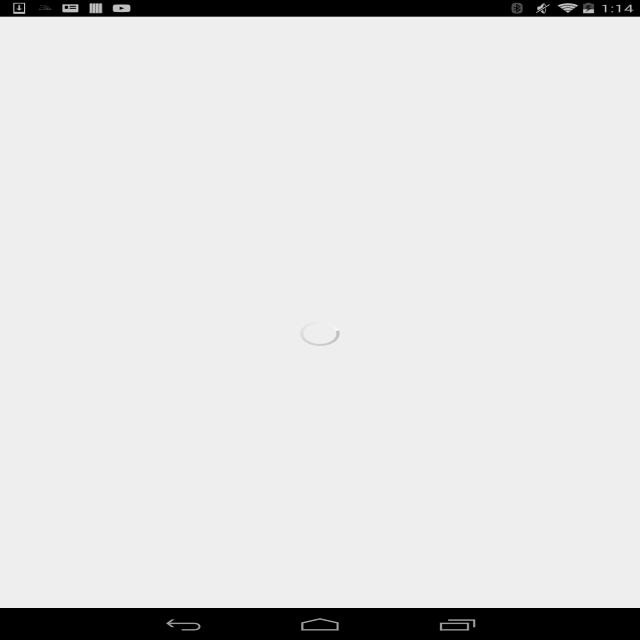Button: (26, 393, 312, 417), (328, 393, 614, 417), (222, 447, 316, 512), (324, 447, 418, 512), (426, 447, 520, 512)
ImageButton: (0, 17, 60, 59)
ImageView: (0, 59, 640, 254), (26, 270, 196, 377), (332, 447, 411, 496), (434, 447, 513, 496), (60, 30, 224, 46), (597, 22, 640, 54), (26, 607, 51, 623), (222, 334, 239, 345), (281, 505, 290, 510)
TextView: (0, 531, 640, 578), (222, 270, 614, 317), (77, 607, 614, 625), (222, 317, 400, 331), (25, 421, 166, 433), (546, 22, 597, 54), (324, 496, 418, 513), (426, 496, 520, 513), (120, 496, 213, 513), (245, 333, 316, 347), (144, 462, 188, 481), (250, 456, 288, 478), (133, 484, 200, 493), (247, 496, 278, 513)
